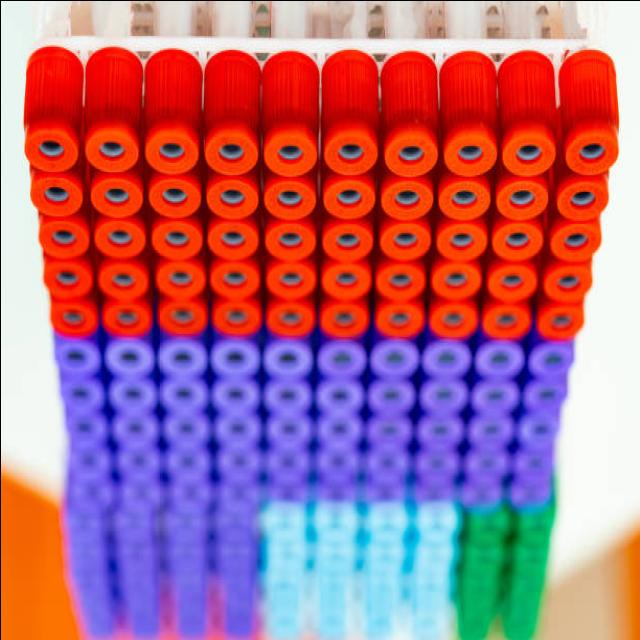vial: (125, 119, 198, 170), (78, 122, 142, 174), (192, 121, 254, 173), (148, 210, 206, 262), (22, 117, 73, 168), (444, 120, 494, 172), (89, 212, 145, 258), (376, 124, 428, 173), (202, 172, 259, 212), (36, 212, 87, 255), (202, 216, 259, 253), (324, 176, 376, 216), (260, 130, 309, 172), (572, 126, 614, 175), (552, 180, 608, 216), (325, 124, 368, 170), (262, 216, 314, 254), (378, 177, 428, 216), (142, 173, 196, 209), (26, 175, 78, 212), (263, 266, 317, 301), (483, 226, 538, 260), (424, 262, 479, 296), (532, 302, 580, 340), (436, 178, 486, 214), (92, 174, 138, 212), (268, 180, 314, 218), (318, 224, 372, 256), (484, 262, 532, 298), (483, 301, 528, 339), (322, 302, 372, 336), (318, 264, 371, 296), (40, 262, 91, 295), (508, 131, 548, 173), (98, 304, 154, 334), (97, 265, 149, 297), (371, 300, 422, 332), (49, 301, 98, 334), (382, 226, 431, 258), (434, 233, 486, 263), (422, 304, 474, 334), (211, 297, 259, 329), (547, 228, 598, 258), (266, 303, 312, 335), (502, 182, 546, 214), (215, 264, 259, 296), (158, 300, 202, 332), (378, 268, 424, 298), (215, 344, 257, 376), (546, 266, 590, 296), (478, 346, 522, 376), (264, 446, 305, 478), (46, 348, 98, 373), (162, 264, 208, 292), (374, 345, 420, 373), (107, 340, 149, 370), (266, 343, 308, 373), (112, 414, 156, 442), (110, 379, 150, 409), (266, 380, 306, 410), (322, 347, 364, 375), (168, 480, 207, 510), (218, 478, 256, 508), (220, 382, 262, 409), (465, 452, 505, 480), (271, 481, 309, 510), (374, 381, 412, 410), (473, 388, 517, 413), (166, 340, 202, 370), (356, 584, 401, 608), (416, 448, 454, 476), (412, 508, 456, 532), (528, 348, 570, 373), (320, 383, 356, 412), (321, 448, 355, 478), (524, 382, 559, 411), (424, 382, 460, 410), (318, 512, 360, 536), (268, 413, 308, 438), (318, 416, 356, 442), (120, 482, 155, 510), (428, 346, 463, 374), (166, 417, 202, 444), (60, 516, 104, 538), (264, 509, 306, 532), (124, 447, 155, 478), (69, 416, 101, 446), (74, 482, 110, 508), (423, 420, 461, 444), (473, 422, 511, 446), (314, 540, 352, 564), (368, 534, 406, 558), (220, 416, 256, 441), (415, 479, 453, 502), (511, 482, 547, 506), (59, 381, 100, 402), (170, 449, 204, 474), (520, 412, 550, 440), (372, 502, 402, 530), (168, 516, 206, 538), (407, 588, 445, 610), (467, 516, 505, 538), (213, 516, 254, 536), (516, 522, 550, 546), (374, 444, 404, 471), (217, 569, 253, 591), (372, 476, 402, 502), (220, 449, 255, 471), (417, 537, 452, 559), (516, 452, 544, 479), (214, 546, 256, 564), (73, 460, 107, 482), (166, 382, 200, 404), (469, 486, 500, 510), (317, 484, 353, 504), (268, 540, 304, 560), (369, 418, 405, 437), (168, 545, 206, 563), (410, 569, 448, 587), (267, 566, 301, 586), (319, 573, 351, 594), (452, 594, 494, 610), (505, 574, 542, 592), (117, 516, 150, 536), (462, 568, 498, 586), (72, 547, 104, 567), (368, 566, 403, 584), (270, 590, 298, 612), (124, 550, 154, 570), (501, 618, 534, 636), (222, 596, 251, 616), (128, 622, 160, 640), (170, 568, 202, 586), (504, 598, 540, 614), (510, 552, 544, 568), (82, 619, 112, 637), (80, 575, 108, 594), (180, 595, 206, 615), (319, 600, 347, 618), (272, 618, 300, 636), (464, 550, 500, 564), (458, 618, 486, 636), (127, 599, 156, 616), (320, 624, 350, 640), (78, 600, 112, 614), (126, 578, 154, 594), (220, 618, 252, 632), (363, 622, 393, 634), (185, 620, 207, 636), (411, 630, 444, 640)
